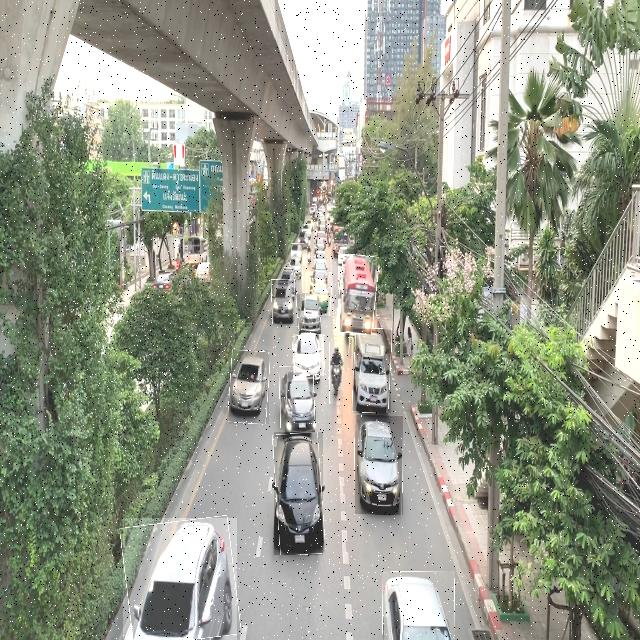Bus: (338, 255, 377, 335)
Car: (123, 518, 237, 640), (274, 432, 323, 555), (382, 571, 455, 640), (355, 415, 403, 515), (353, 329, 391, 413), (229, 350, 269, 424), (280, 366, 314, 433), (293, 334, 324, 376), (305, 272, 332, 316), (272, 279, 295, 324), (297, 293, 321, 331), (292, 243, 306, 266)
Motorcycle: (329, 342, 344, 404)
